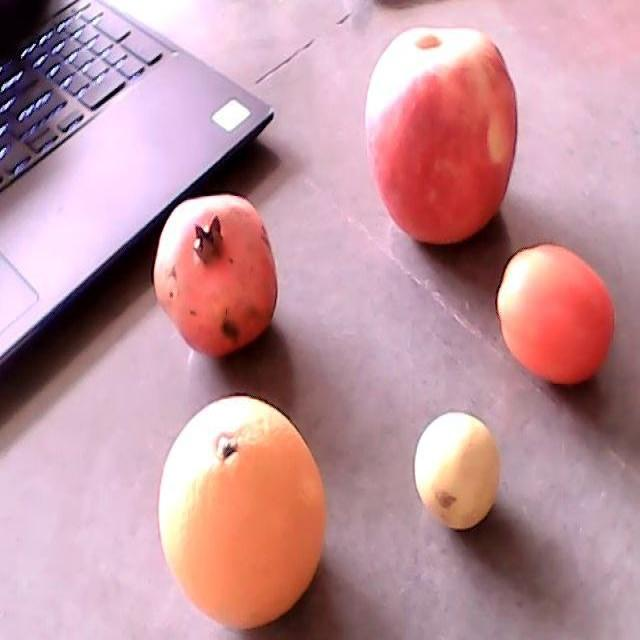apple: (367, 26, 518, 243)
lemon: (414, 412, 498, 529)
orange: (159, 395, 326, 630)
pomegranate: (154, 195, 278, 359)
tomato: (498, 239, 616, 384)
